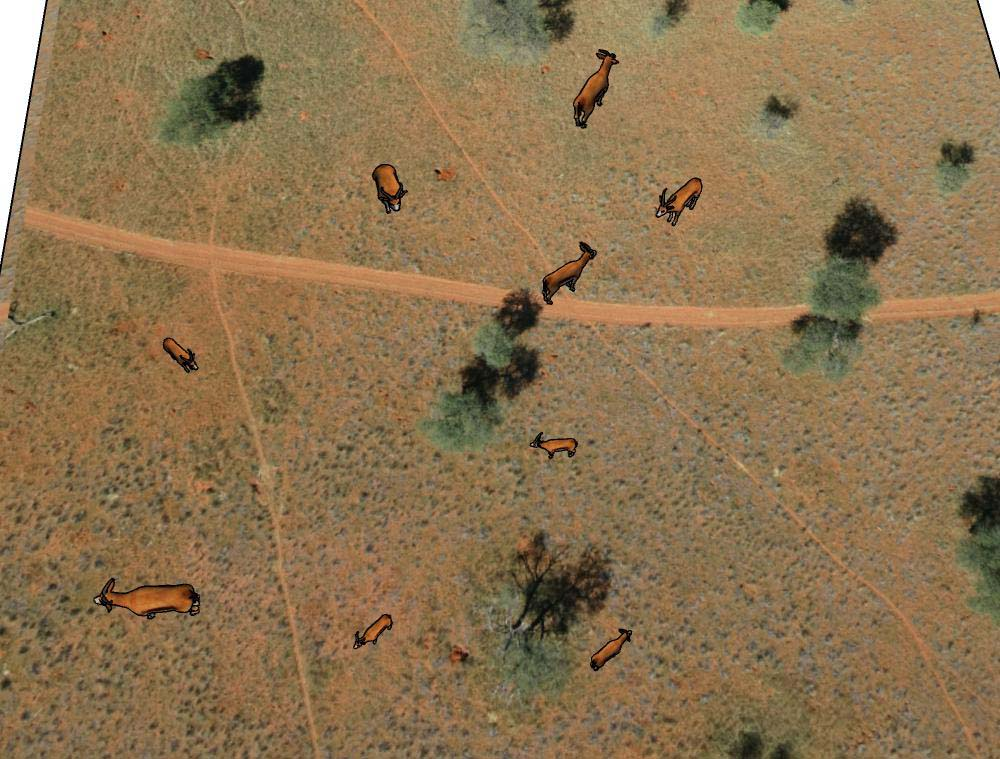springbok: (92, 571, 203, 627), (565, 47, 622, 135), (539, 238, 594, 301), (652, 174, 705, 231), (364, 158, 413, 218), (586, 625, 637, 674), (522, 429, 585, 464), (160, 332, 203, 382), (351, 609, 395, 651)
